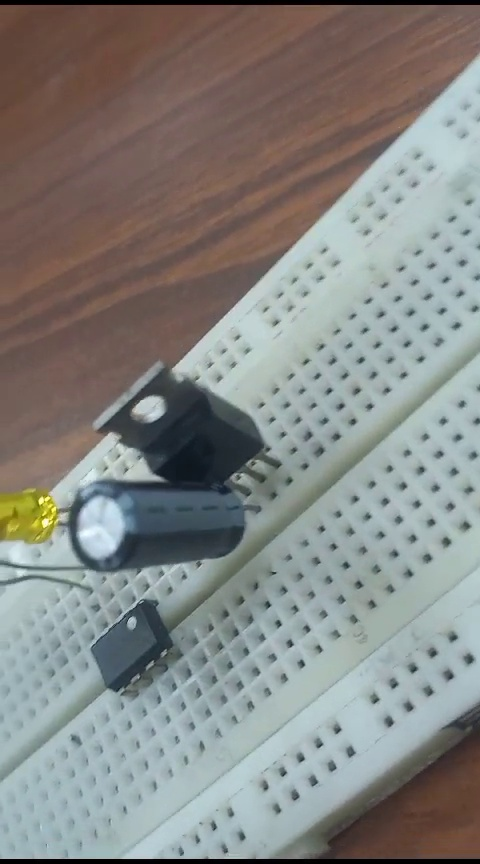IC: (79, 616, 178, 685)
LED: (7, 483, 55, 549)
capacitor: (60, 468, 248, 568)
voltage regulator: (98, 352, 266, 491)
